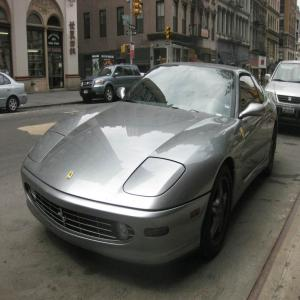Vehicle-registration-plate: (283, 104, 296, 115), (84, 90, 89, 95)
